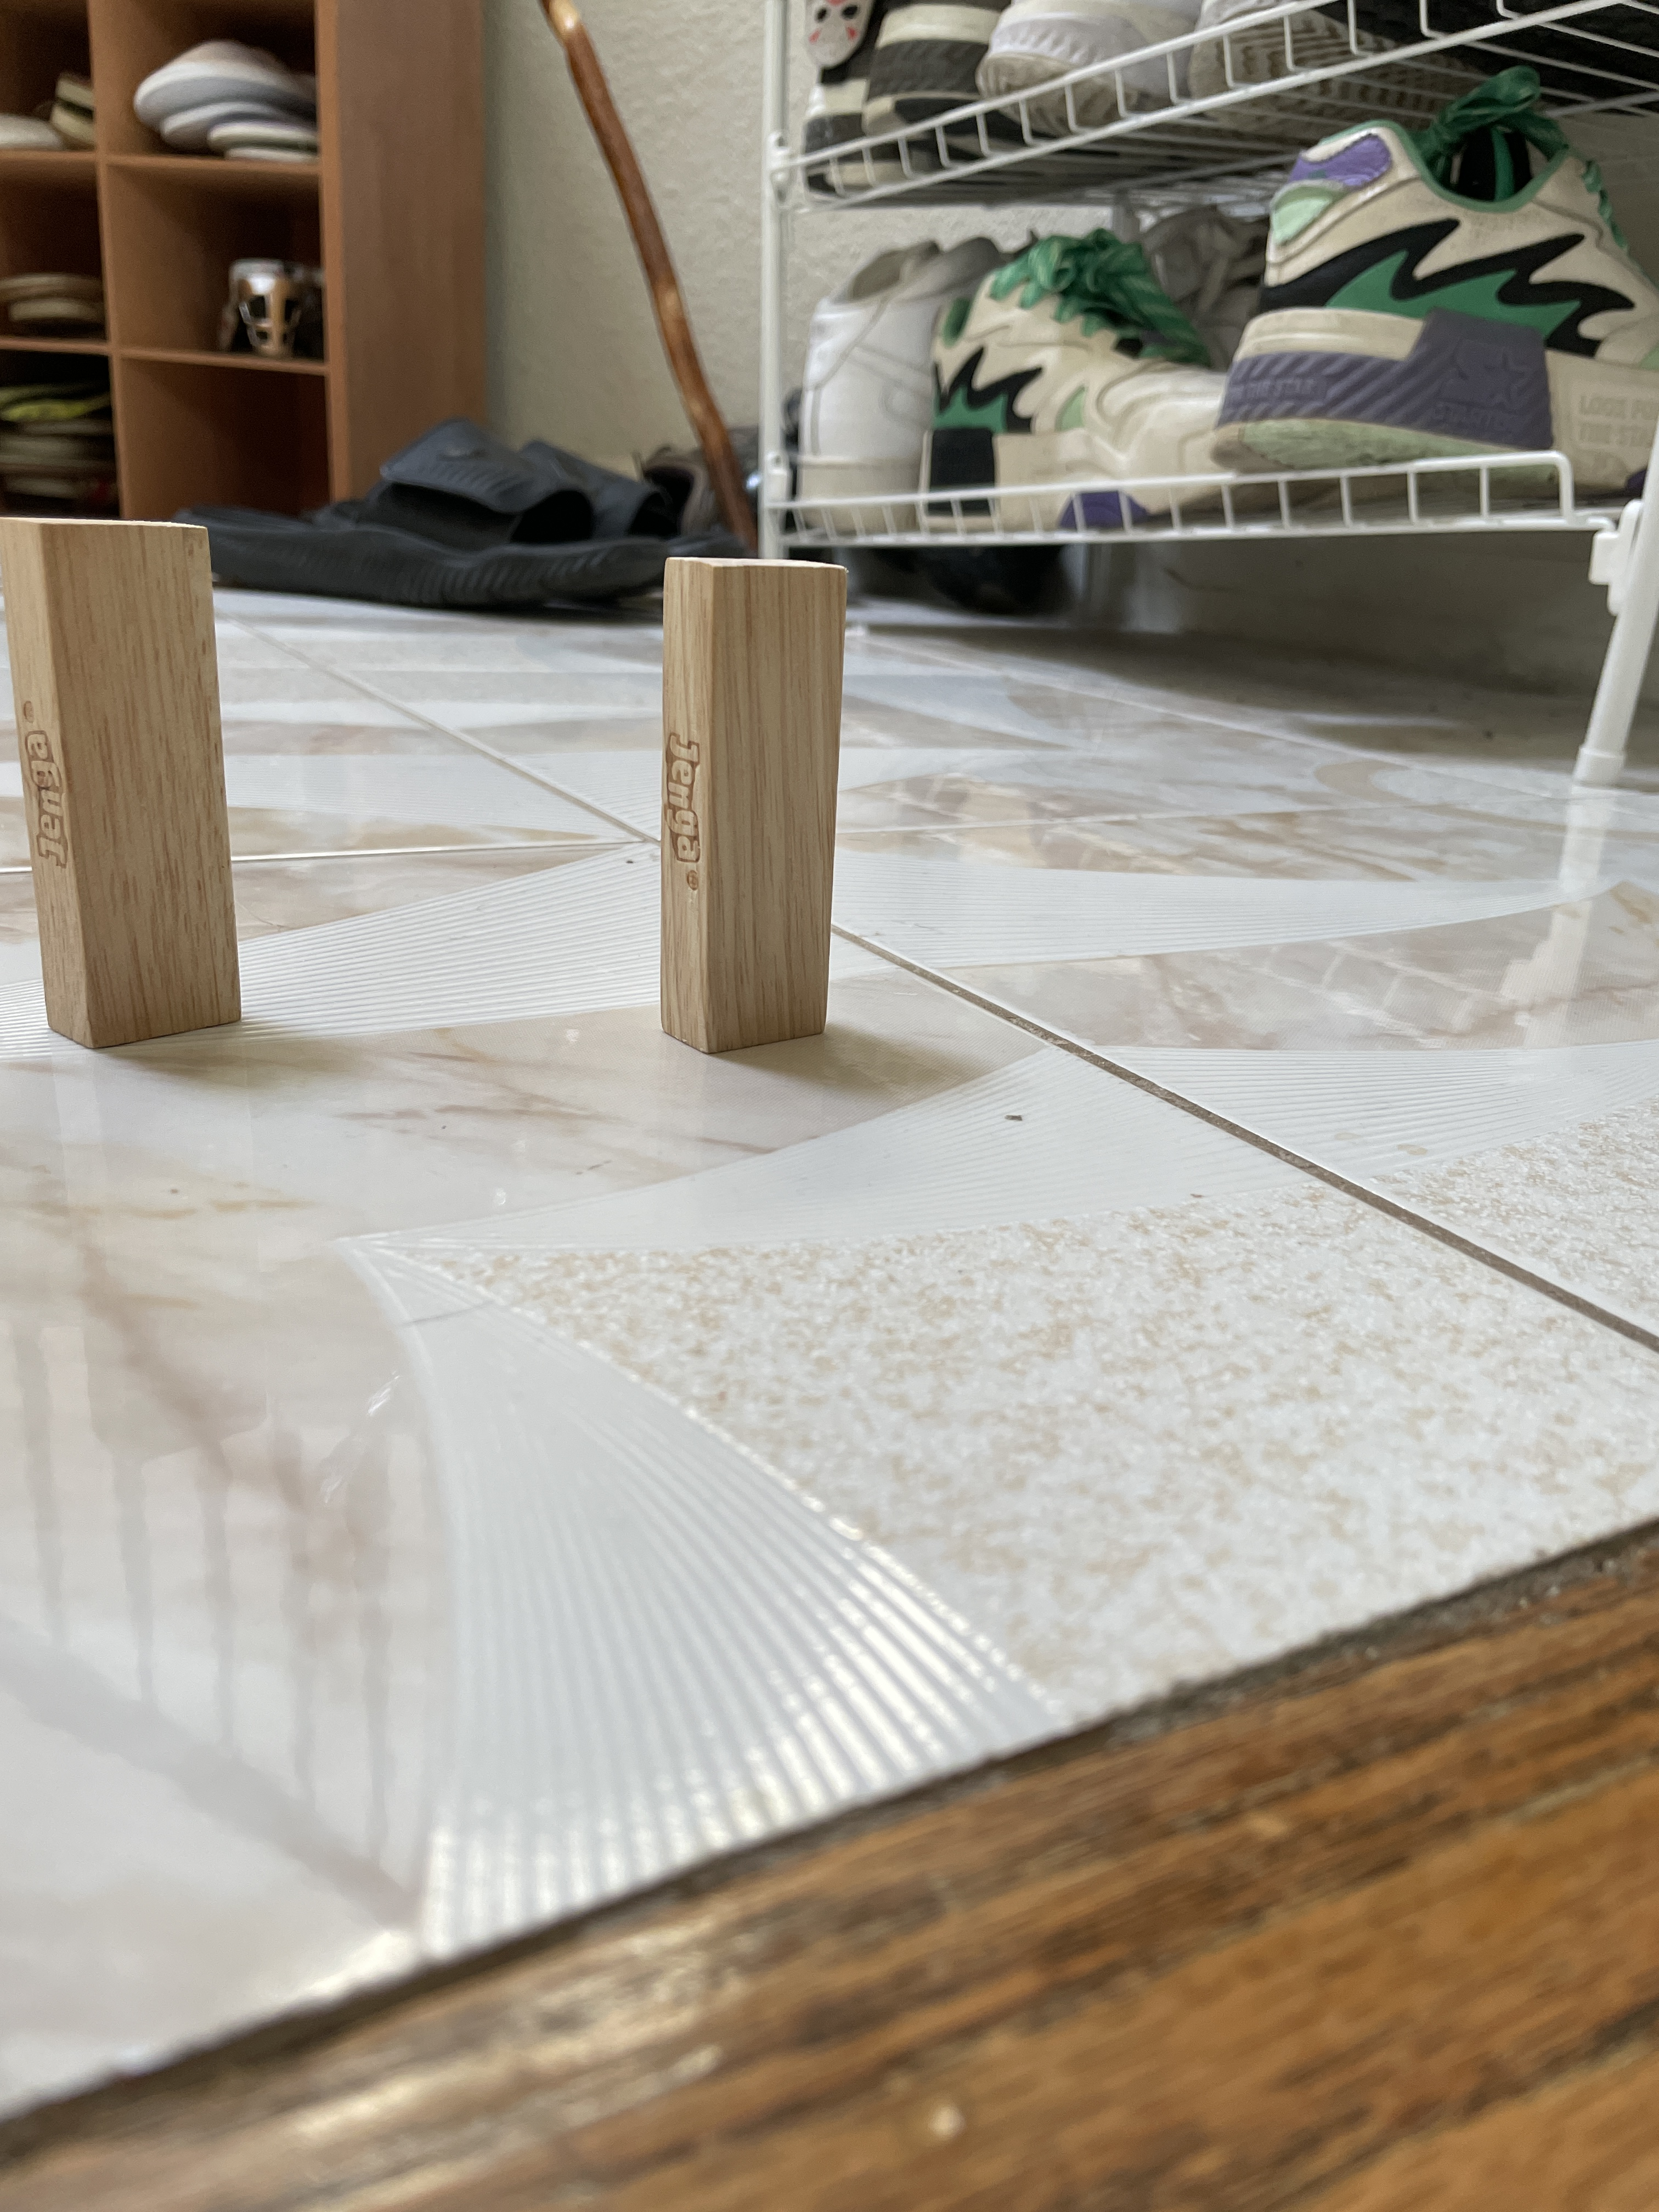jenga: (10, 507, 289, 1040), (638, 526, 843, 1052)
